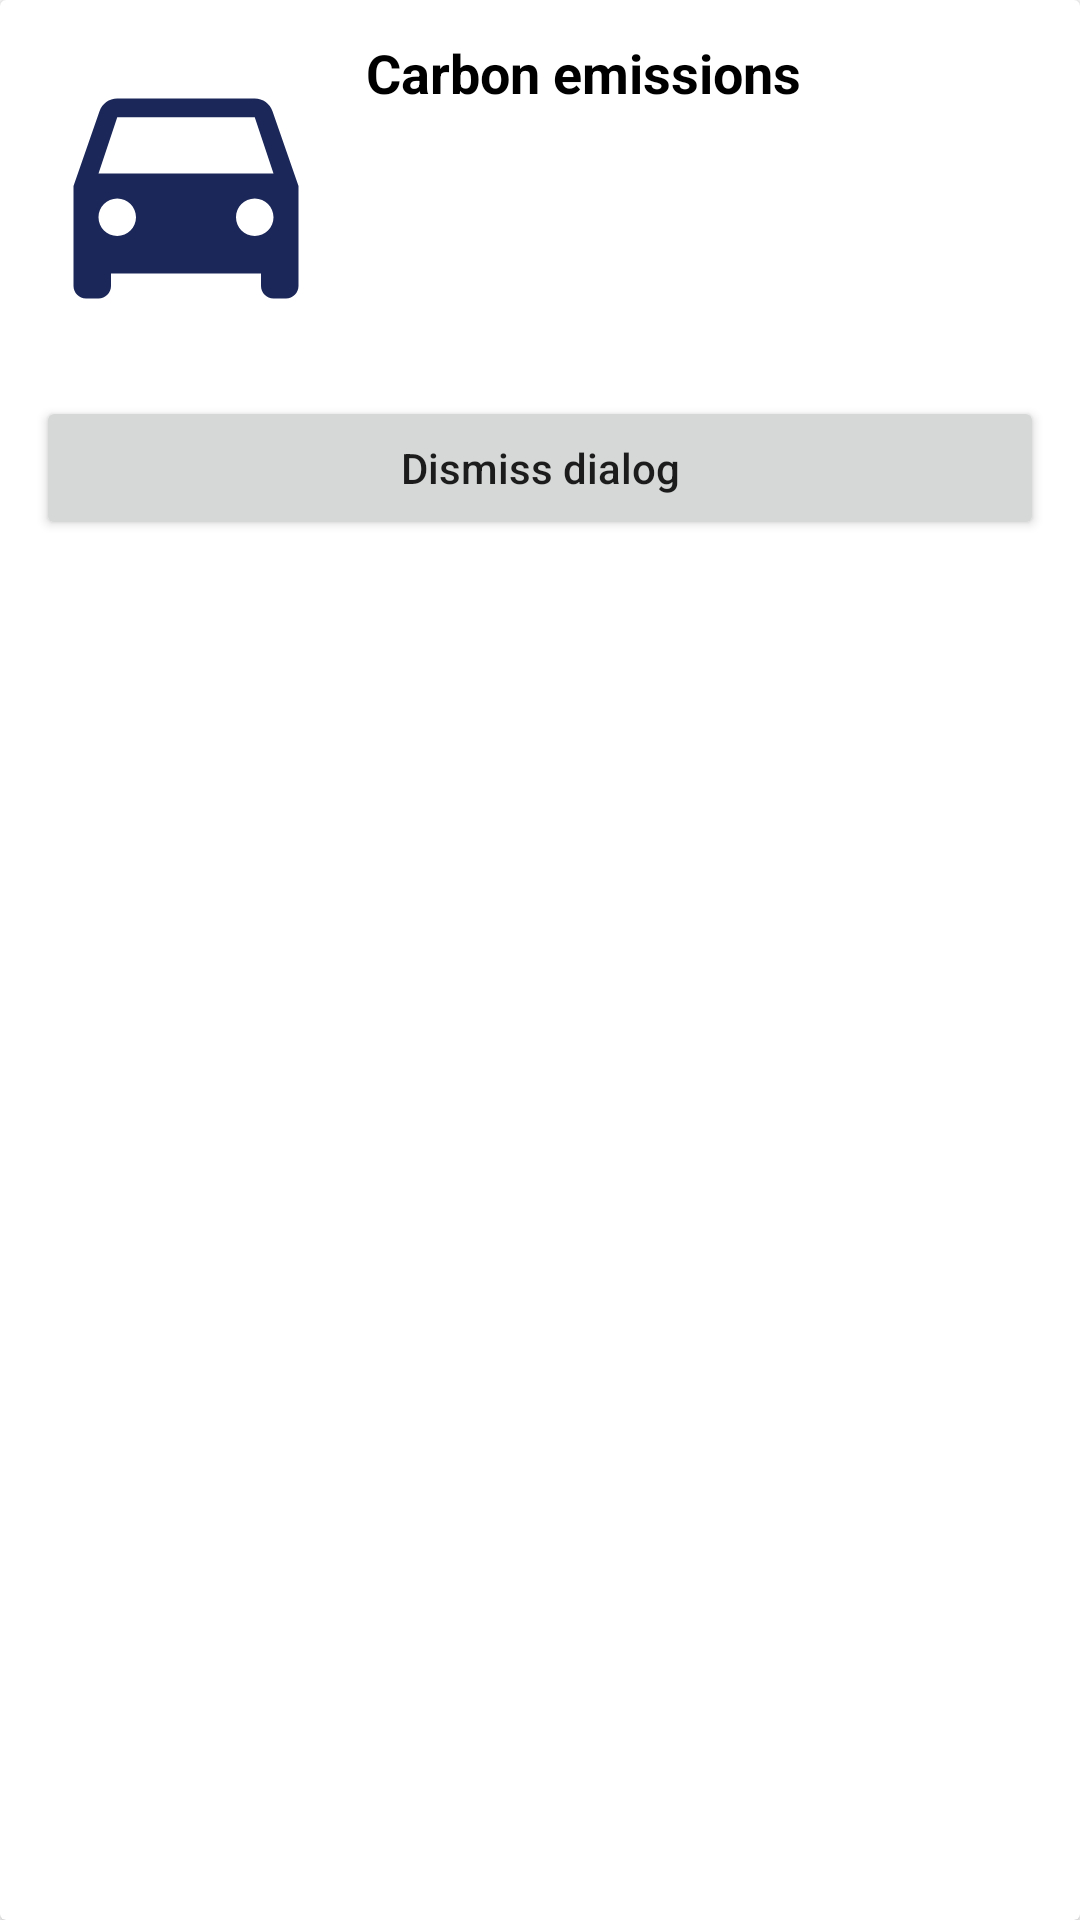

Screen size 1080x1920. Icon name, then its box in pixels as (x1, y1, x2, y2):
car: (73, 98, 299, 299)
